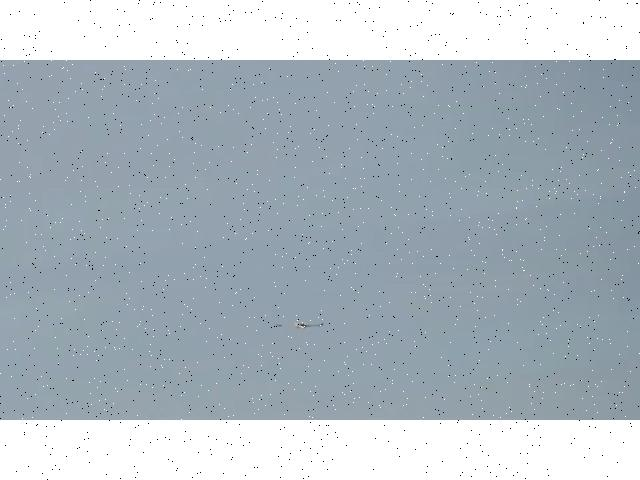Anti-Drone: (276, 323, 324, 328)
